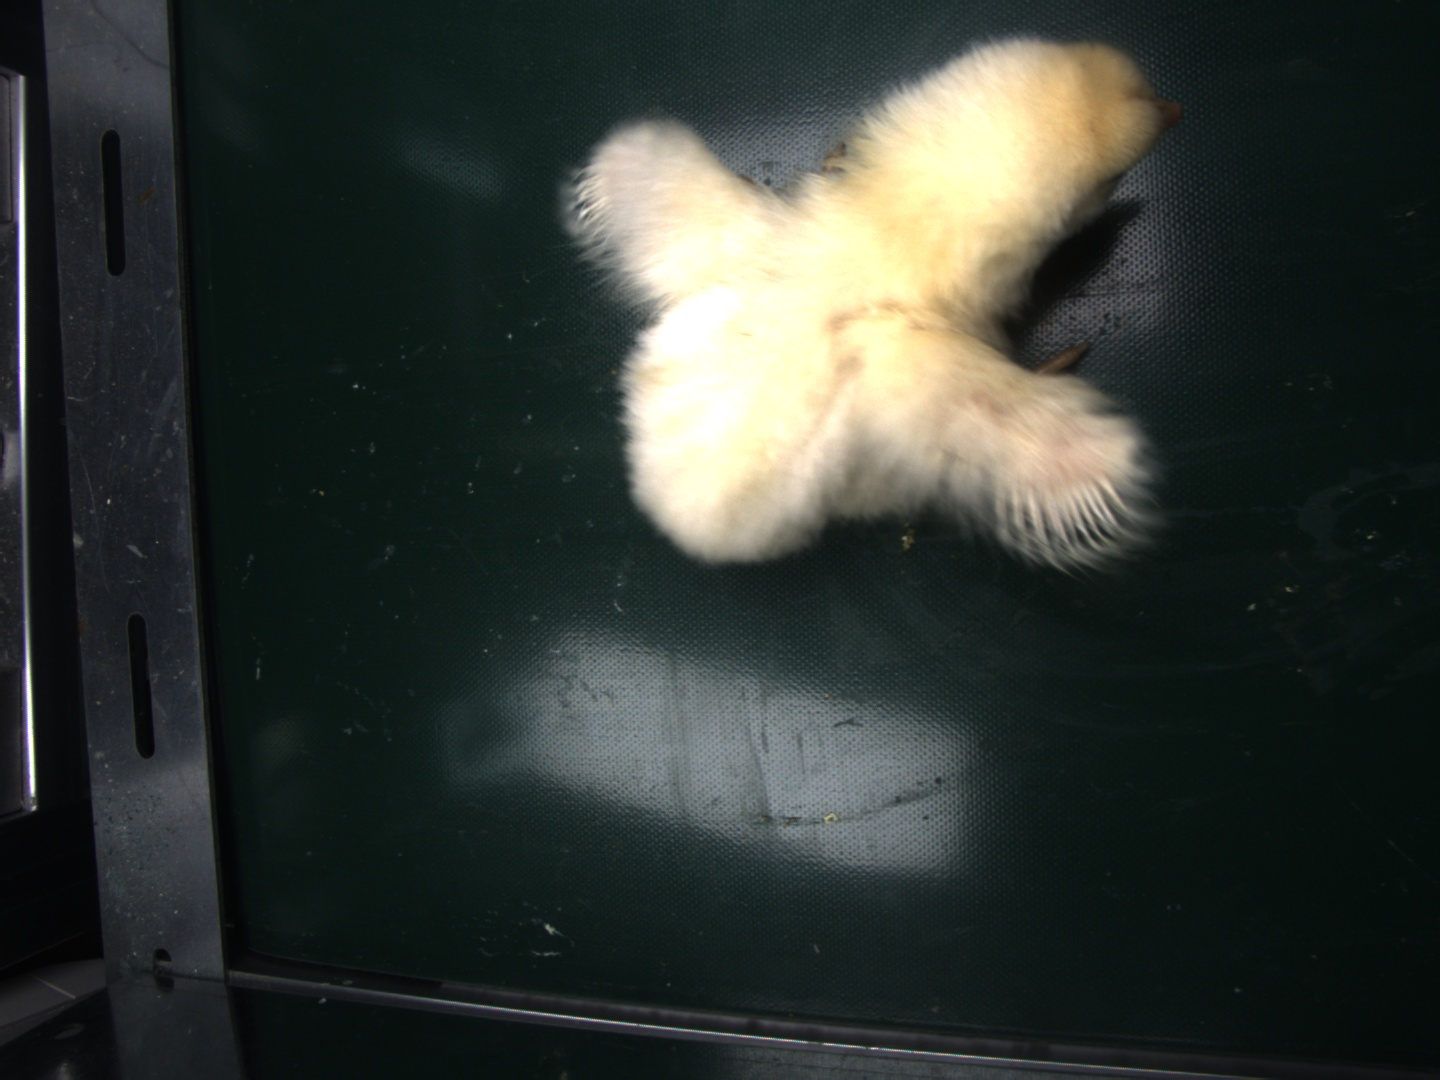male: (1002, 478, 1130, 562)
